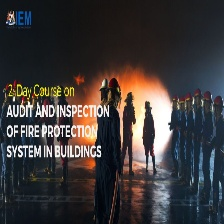smoke: (119, 47, 164, 103)
